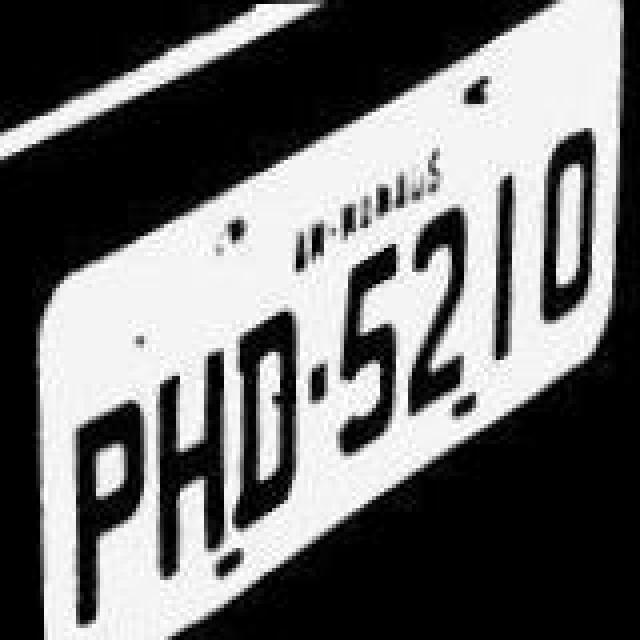1: (478, 144, 526, 388)
2: (398, 194, 482, 422)
5: (326, 236, 406, 464)
D: (226, 300, 310, 544)
H: (146, 340, 230, 588)
O: (526, 114, 602, 334)
P: (60, 380, 148, 640)
